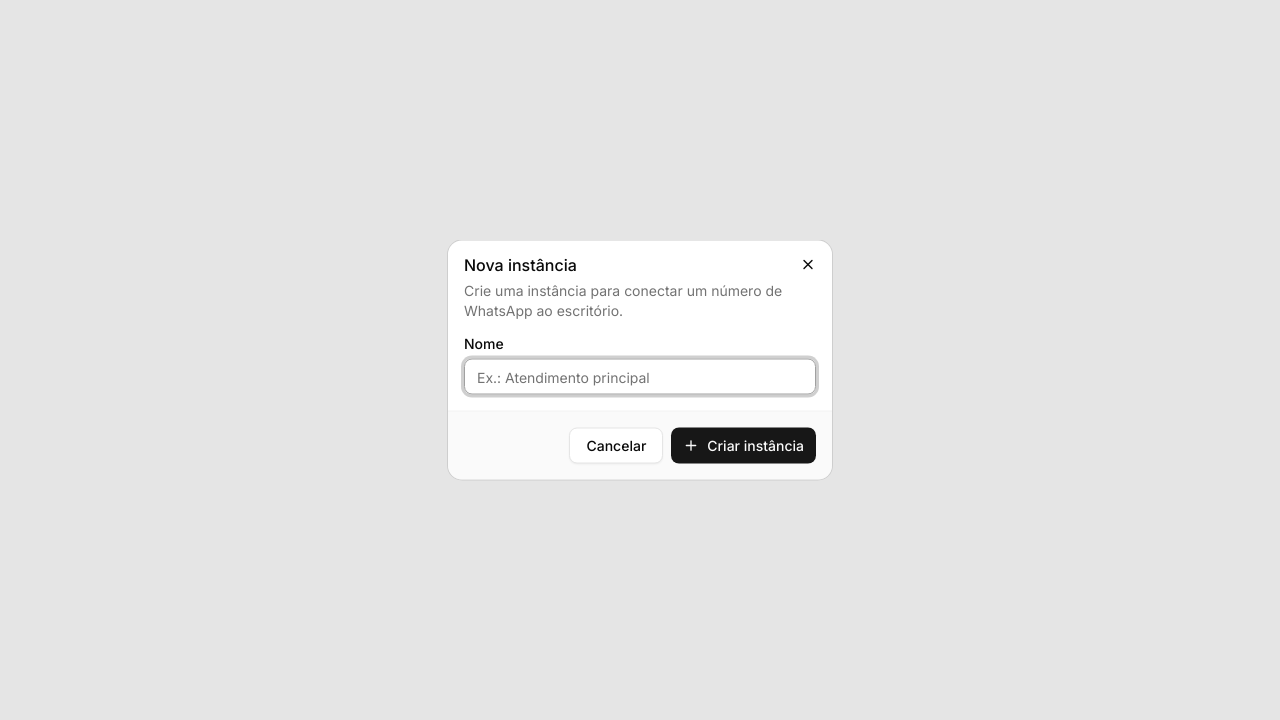
Test: NovaInstanciaDialog › exige o nome antes de enviar
Click the button "Criar instância" at (744, 446), box [671,428,816,464]
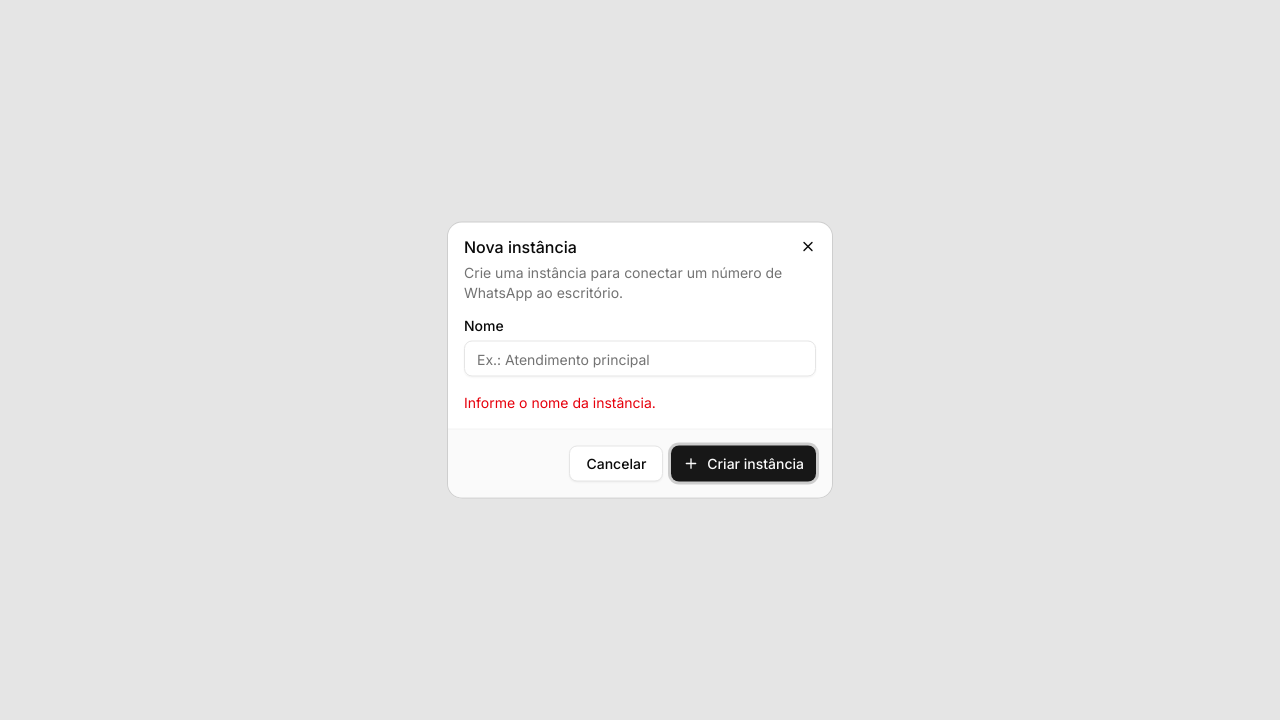
Expected: the message reads "Informe o nome da instância.", [464,394,656,410]
